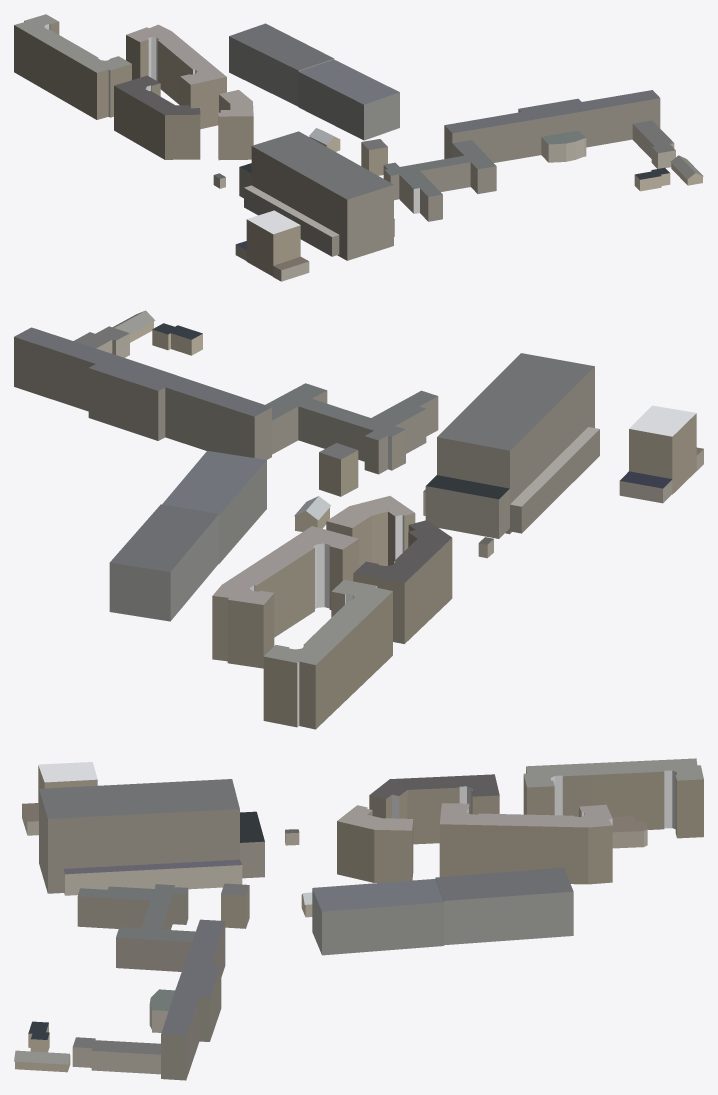
3 views of the same model, one above another, from view 1: azimuth 30°, elevation 25°; view 2: azimuth 150°, elevation 25°; view 3: azimuth 270°, elevation 25° (orthographic). The views are drawn at different scales.
Visible parts, largest first — view 1: tuile; view 2: tuile; view 3: tuile.
Boxes of the visible parts, x1,y1,x2,y2 form: tuile: (14, 14, 703, 281); tuile: (14, 310, 703, 729); tuile: (14, 758, 703, 1080).
Bounding box in the file's own units: 229 × 29.96 × 250.
